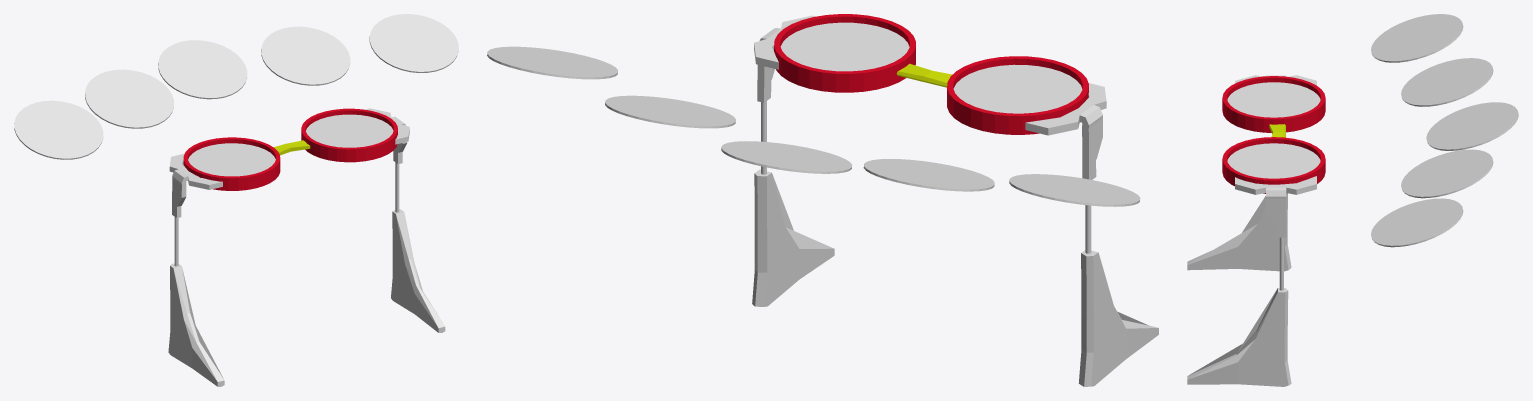
File: glassesCollection.fbx
3 renders of one model, left to right at view 1: azimuth 30°, elevation 25°; view 2: azimuth 150°, elevation 25°; view 3: azimuth 270°, elevation 25°, orthographic. The views are drawn at different scales.
Parts seen in each view (by area): view 1: Cube.002, Cylinder.001, Cylinder.003, Cylinder.002, Cylinder.006, Cylinder.004, Cube.001, Cylinder.018, Cylinder.017, Cylinder.016, Cylinder.015; view 2: Cube.002, Cube.001, Cylinder.017, Cylinder.018, Cylinder.016, Cylinder.015, Cylinder.004, Cylinder.003, Cylinder.002, Cylinder.001, Cylinder.006, Cube; view 3: Cube.001, Cube.002, Cylinder.003, Cylinder.002, Cylinder.004, Cylinder.006, Cylinder.001, Cylinder.017, Cylinder.018, Cylinder.015, Cylinder.016.
Part boxes in pixels (x1=…): Cube.002: x1=168, y1=153, x2=224, y2=386; Cylinder.001: x1=14, y1=100, x2=103, y2=159; Cylinder.003: x1=261, y1=26, x2=350, y2=85; Cylinder.002: x1=158, y1=40, x2=247, y2=99; Cylinder.006: x1=85, y1=69, x2=173, y2=128; Cylinder.004: x1=369, y1=14, x2=458, y2=72; Cube.001: x1=365, y1=108, x2=445, y2=332; Cylinder.018: x1=188, y1=143, x2=275, y2=176; Cylinder.017: x1=306, y1=114, x2=393, y2=147; Cylinder.016: x1=301, y1=108, x2=397, y2=162; Cylinder.015: x1=183, y1=137, x2=280, y2=190; Cube.002: x1=1025, y1=83, x2=1158, y2=386; Cube.001: x1=752, y1=15, x2=834, y2=306; Cylinder.017: x1=780, y1=22, x2=909, y2=71; Cylinder.018: x1=953, y1=64, x2=1082, y2=113; Cylinder.016: x1=774, y1=14, x2=915, y2=92; Cylinder.015: x1=947, y1=56, x2=1088, y2=134; Cylinder.004: x1=487, y1=46, x2=617, y2=79; Cylinder.003: x1=605, y1=95, x2=735, y2=128; Cylinder.002: x1=721, y1=141, x2=852, y2=173; Cylinder.001: x1=1009, y1=174, x2=1140, y2=206; Cylinder.006: x1=863, y1=159, x2=994, y2=191; Cube: x1=896, y1=63, x2=952, y2=87; Cube.001: x1=1187, y1=176, x2=1316, y2=386; Cube.002: x1=1187, y1=75, x2=1316, y2=271; Cylinder.003: x1=1401, y1=149, x2=1493, y2=198; Cylinder.002: x1=1426, y1=102, x2=1518, y2=150; Cylinder.004: x1=1371, y1=198, x2=1463, y2=247; Cylinder.006: x1=1401, y1=58, x2=1493, y2=106; Cylinder.001: x1=1371, y1=14, x2=1463, y2=62; Cylinder.017: x1=1227, y1=143, x2=1320, y2=178; Cylinder.018: x1=1227, y1=82, x2=1320, y2=117; Cylinder.015: x1=1222, y1=76, x2=1325, y2=132; Cylinder.016: x1=1222, y1=137, x2=1325, y2=193.
Bounding box in the file's own units: 1033 × 465 × 644.
